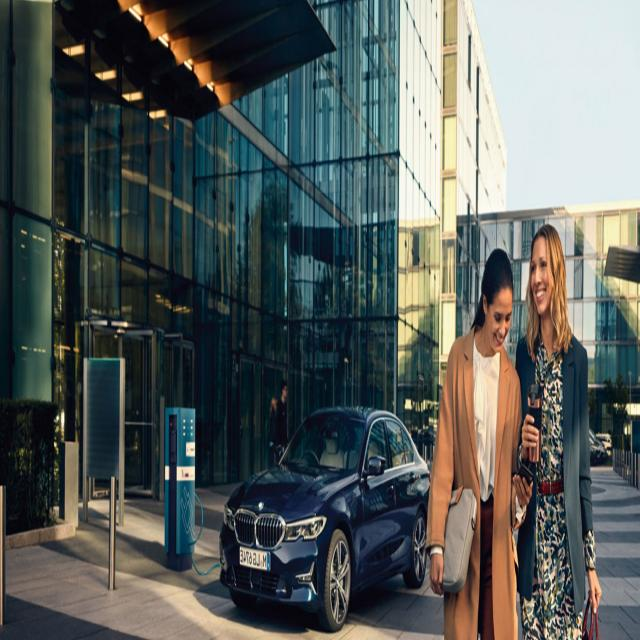car: (208, 390, 429, 628)
person: (425, 244, 525, 640), (520, 222, 604, 640)
